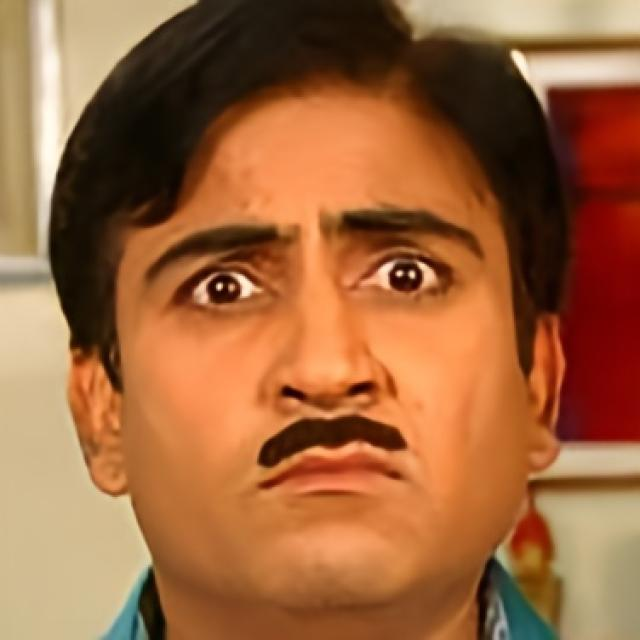fear: (118, 59, 522, 601)
